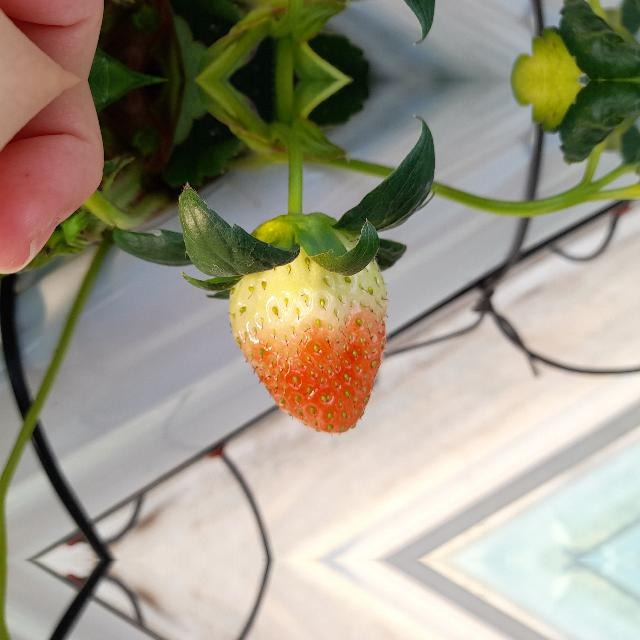Health_75: (227, 233, 389, 435)
